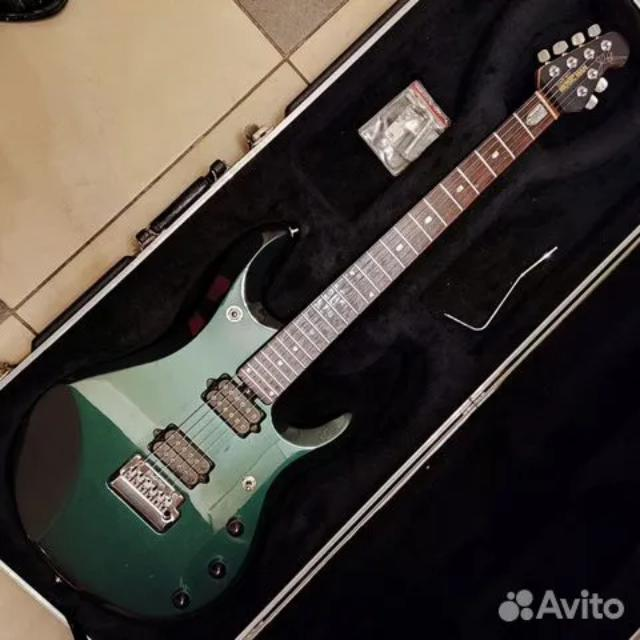Electric-Guitar: (12, 25, 628, 618)
